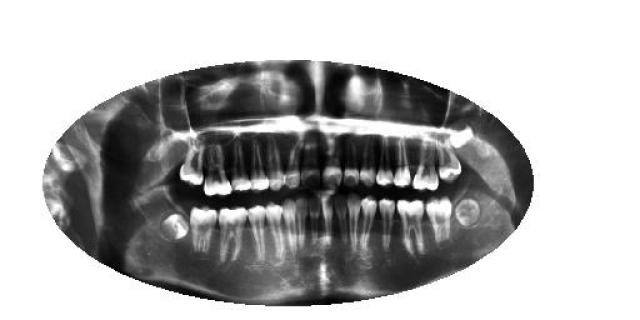Restorations: (160, 208, 192, 242)
